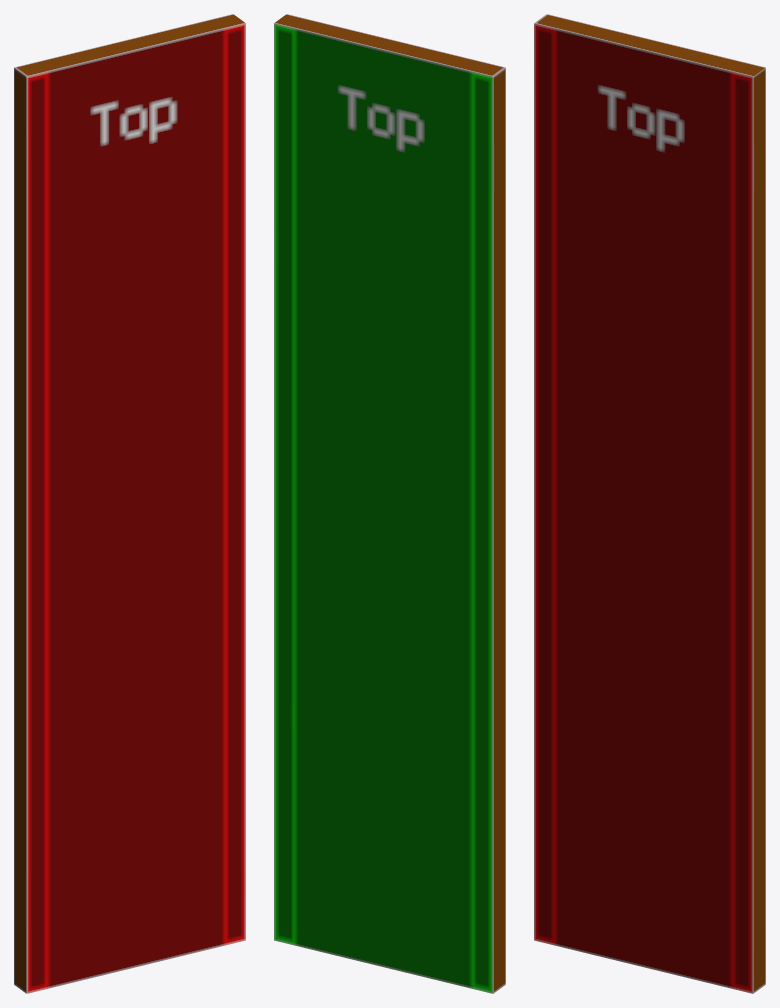
File: wall_new.dae
3 renders of one model, left to right at view 1: azimuth 30°, elevation 25°; view 2: azimuth 150°, elevation 25°; view 3: azimuth 330°, elevation 25°, orthographic.
Visible parts, largest first — view 1: Wall, LeftCorner, RightCorner; view 2: Wall, LeftCorner, RightCorner; view 3: Wall, RightCorner, LeftCorner.
Boxes of the visible parts, x1,y1,x2,y2 form: Wall: [36, 19, 223, 988]; LeftCorner: [14, 62, 48, 993]; RightCorner: [212, 14, 245, 945]; Wall: [296, 19, 483, 988]; LeftCorner: [471, 62, 505, 993]; RightCorner: [274, 14, 307, 945]; Wall: [556, 19, 743, 988]; RightCorner: [731, 62, 765, 993]; LeftCorner: [534, 14, 567, 945].
Bounding box in the file's own units: 1 × 0.1 × 4.
1 material, 1 textured.
